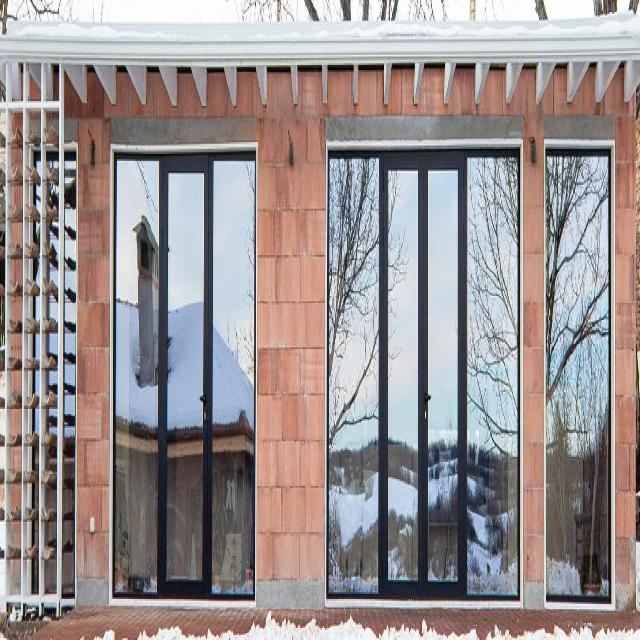door: (377, 152, 470, 604), (157, 154, 214, 594)
wall: (0, 16, 640, 618)
windows: (545, 156, 611, 602), (328, 150, 379, 592), (470, 146, 520, 593), (214, 153, 258, 602), (114, 152, 158, 596)
